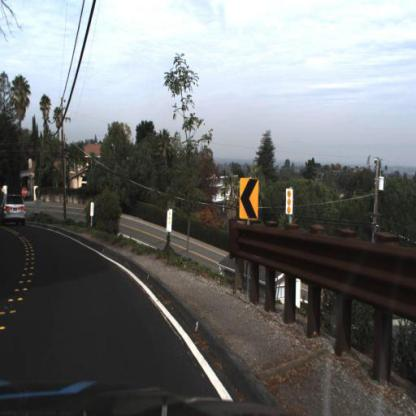car: (2, 193, 29, 232), (1, 192, 26, 226)
